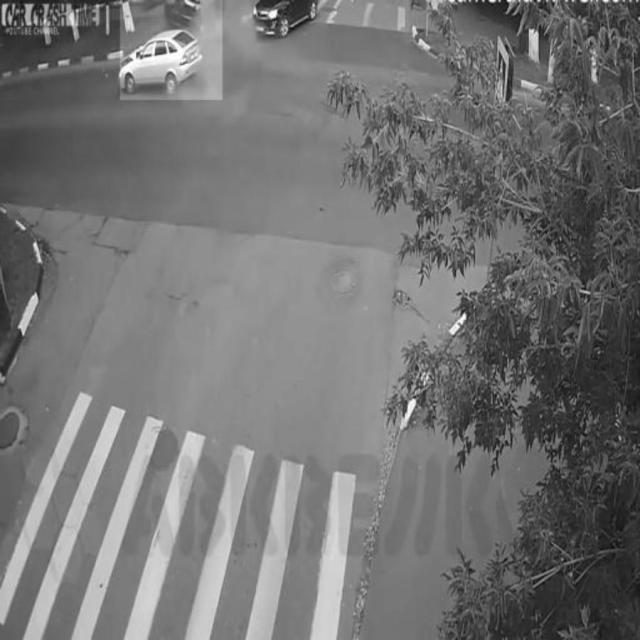accident: (120, 0, 223, 100)
